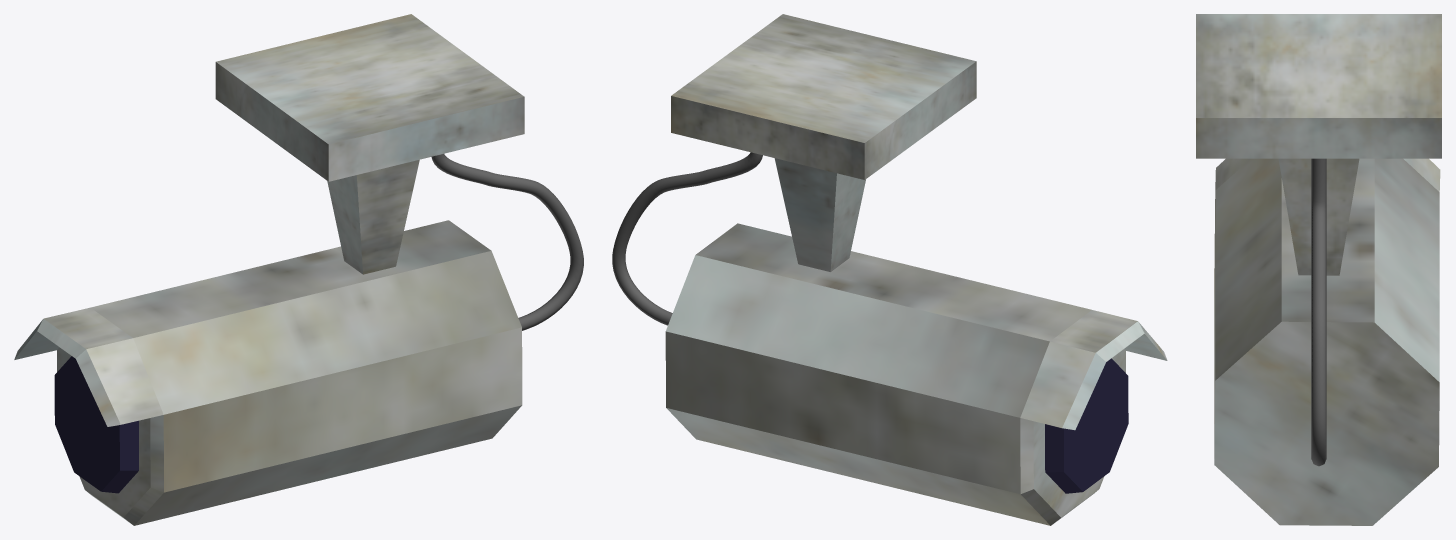
Rendered from camitled.fbx.
The picture shows the model from 3 angles, left to right: view 1: azimuth 30°, elevation 25°; view 2: azimuth 150°, elevation 25°; view 3: azimuth 270°, elevation 25°; orthographic projection. The views are drawn at different scales.
Visible parts, largest first — view 1: Cylinder.001, Cube.003, NurbsPath.001; view 2: Cylinder.001, Cube.003, NurbsPath.001; view 3: Cylinder.001, Cube.003, NurbsPath.001.
Part boxes in pixels (x1,y1,x2,y2): Cylinder.001: (14,220,522,525); Cube.003: (215,14,524,274); NurbsPath.001: (431,154,583,330); Cylinder.001: (665,223,1167,525); Cube.003: (671,14,976,271); NurbsPath.001: (612,152,762,325); Cylinder.001: (1214,158,1440,525); Cube.003: (1196,14,1441,275); NurbsPath.001: (1311,158,1326,466).
Bounding box in the file's own units: 309 × 211 × 116.
